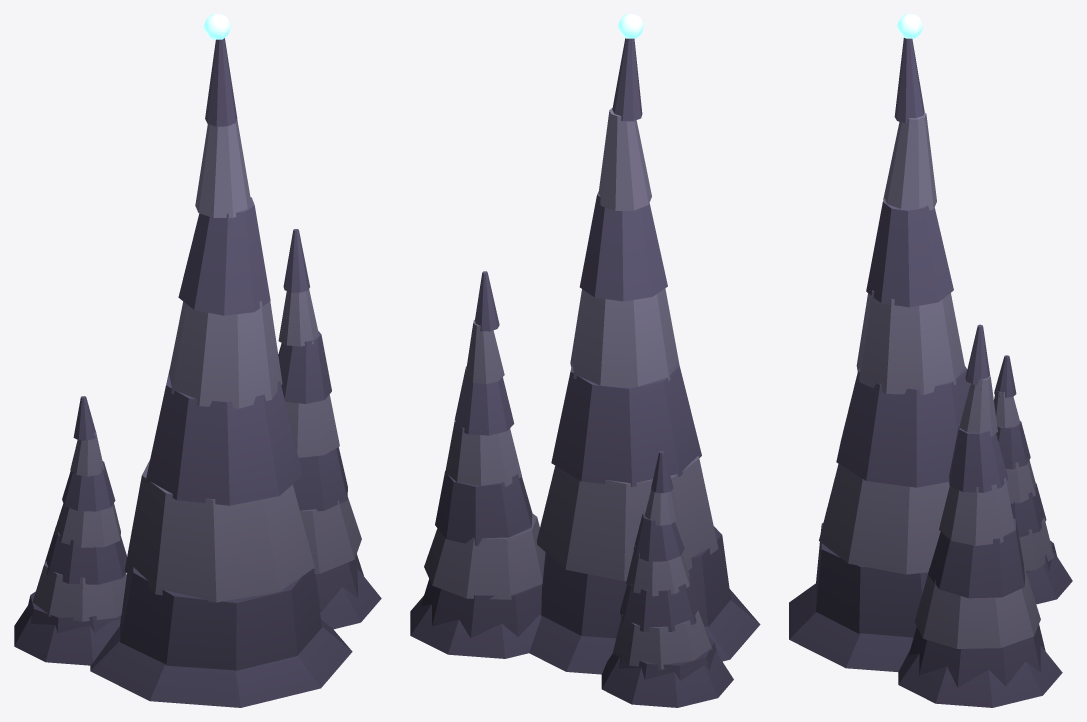
The model's file is stalagmite.glb.
3 renders of one model, left to right at view 1: azimuth 30°, elevation 25°; view 2: azimuth 150°, elevation 25°; view 3: azimuth 270°, elevation 25°, orthographic. The views are drawn at different scales.
Parts seen in each view (by area): view 1: t0_rock, t0_rock_light, t0_glow_teal; view 2: t0_rock, t0_rock_light; view 3: t0_rock, t0_rock_light, t0_glow_teal.
Boxes of the visible parts, x1=… form: t0_rock: x1=14, y1=38, x2=381, y2=707; t0_rock_light: x1=32, y1=118, x2=361, y2=621; t0_glow_teal: x1=203, y1=14, x2=231, y2=39; t0_rock: x1=410, y1=38, x2=760, y2=707; t0_rock_light: x1=424, y1=108, x2=718, y2=669; t0_rock: x1=789, y1=38, x2=1072, y2=707; t0_rock_light: x1=819, y1=112, x2=1054, y2=648; t0_glow_teal: x1=896, y1=14, x2=923, y2=38.
Bounding box in the file's own units: 1.35 × 2.49 × 1.05.
